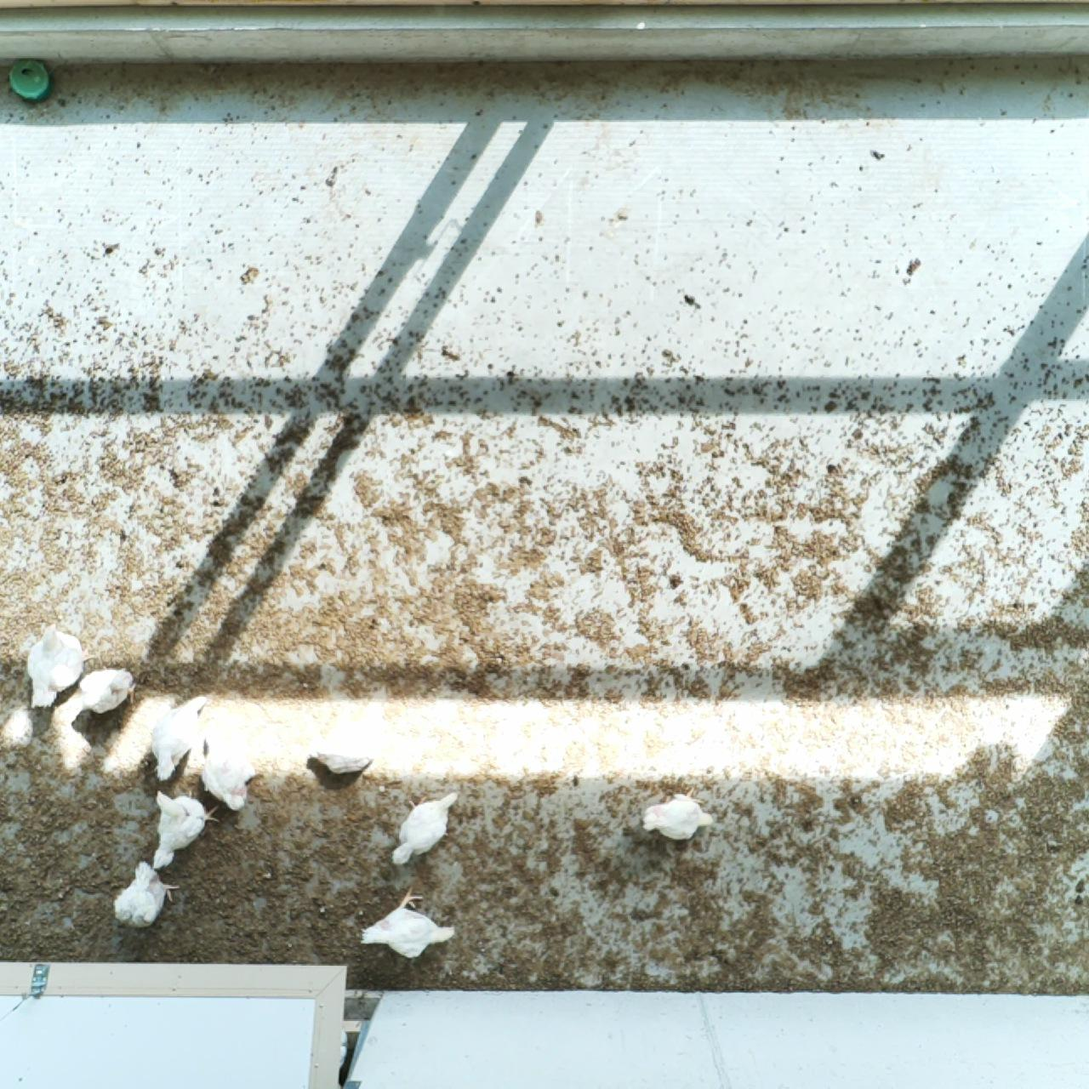chicken: (357, 884, 458, 960), (23, 619, 97, 710), (147, 788, 222, 871), (388, 788, 463, 867), (146, 692, 209, 785), (110, 857, 184, 934), (202, 728, 257, 815), (639, 785, 716, 846), (302, 721, 381, 779), (79, 664, 141, 717)
